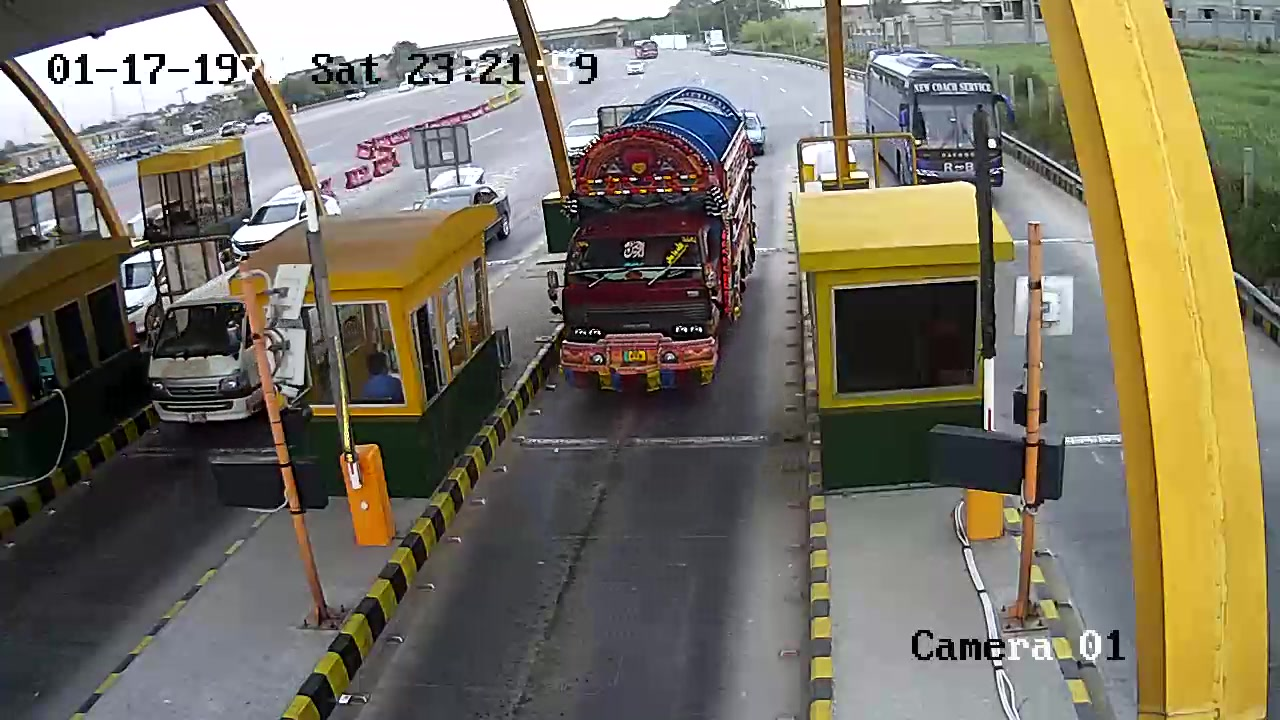F5: (551, 79, 760, 398)
